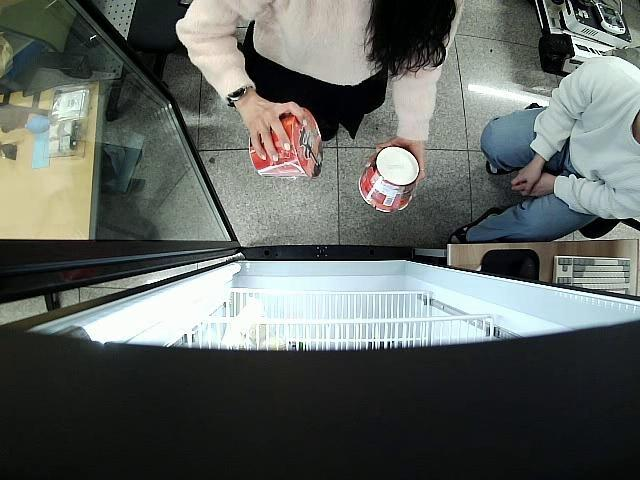01_ShinRamen_L: (247, 106, 324, 178), (359, 146, 419, 212)
